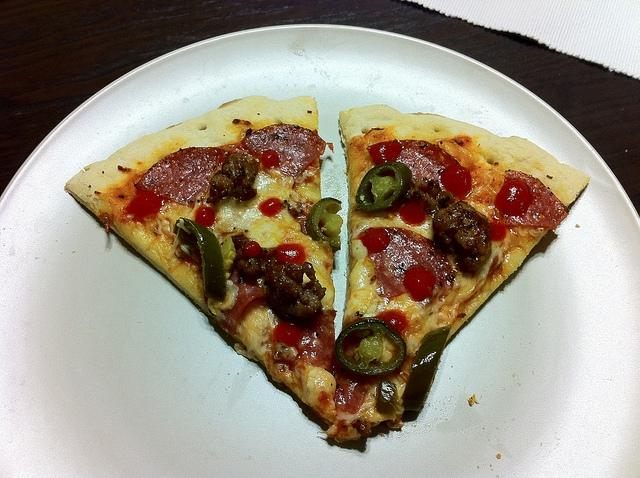tomato: (334, 368, 376, 414), (125, 188, 163, 226), (494, 180, 530, 217), (404, 266, 436, 302), (440, 164, 472, 198), (374, 309, 410, 337), (366, 142, 401, 166), (399, 196, 426, 225), (274, 243, 306, 264), (362, 228, 390, 252), (274, 322, 300, 346), (258, 197, 284, 217), (194, 207, 216, 227), (488, 221, 506, 242), (262, 149, 279, 168), (243, 240, 261, 257)
